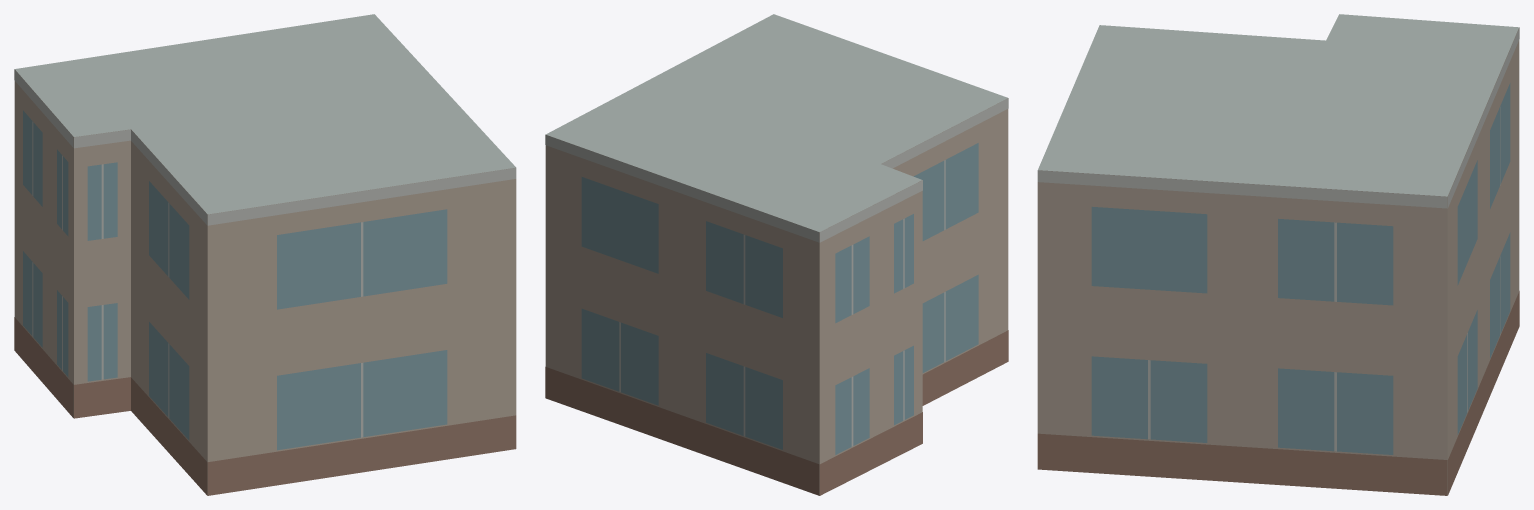
File: survey-upis-32806103.glb
3 views of the same model, side by side, from view 1: azimuth 30°, elevation 25°; view 2: azimuth 150°, elevation 25°; view 3: azimuth 270°, elevation 25° (orthographic). The views are drawn at different scales.
Parts seen in each view (by area): view 1: survey-upis-32806103.tmp; view 2: survey-upis-32806103.tmp; view 3: survey-upis-32806103.tmp.
Part boxes in pixels (x1,y1,x2,y2): survey-upis-32806103.tmp: (14, 14, 516, 495); survey-upis-32806103.tmp: (545, 14, 1008, 495); survey-upis-32806103.tmp: (1037, 14, 1519, 495).
Size of the model in its own units: 7.99 by 6.1 by 8.91.
